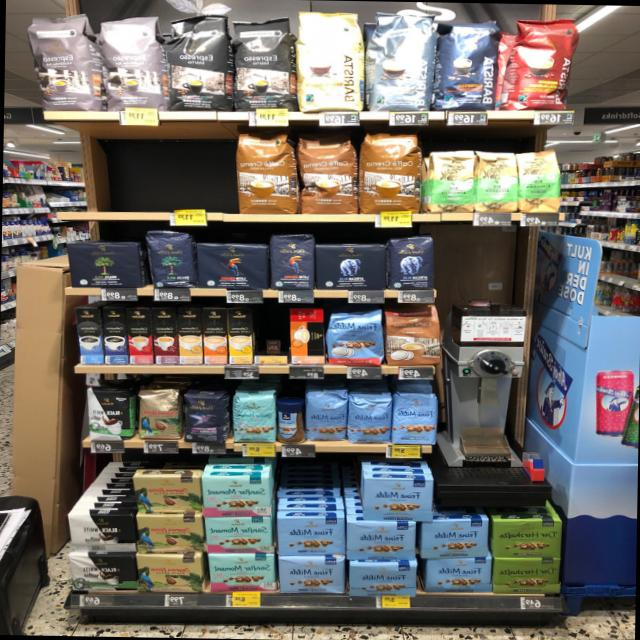AB Bohne: (388, 233, 434, 290)
AB Gemahlen: (315, 242, 387, 290)
Athiopien Bohne: (518, 148, 562, 215)
Athiopien Gemahlen: (426, 150, 475, 215), (473, 150, 519, 212)
BM Bohne: (144, 228, 194, 288)
BM Gemahlen: (66, 238, 143, 288)
BW Bohne: (85, 386, 134, 440)
BW Gemahlen: (65, 511, 136, 553), (68, 552, 136, 592)
Barista CB: (295, 11, 363, 111)
Barista CC: (364, 12, 436, 112)
Barista Espresso: (432, 15, 498, 110)
Barista Kolumbien: (502, 14, 578, 112)
C Fino Bohne: (182, 391, 225, 445)
CC Vollmundig: (384, 304, 440, 366)
CC Vollmundig 36 Pads: (359, 128, 422, 214), (234, 130, 296, 214), (298, 130, 360, 214)
Colombia BB Bohne: (138, 388, 180, 440)
Colombia BB Gemahlen: (132, 472, 202, 514), (135, 553, 203, 595), (134, 514, 202, 554)
Empty Shelf: (55, 125, 234, 215), (254, 308, 288, 357)
Espresso Kraftig: (165, 10, 229, 111), (232, 14, 293, 110)
Espresso M Art: (23, 9, 98, 110), (99, 11, 163, 110)
FM 36 Pads: (326, 306, 382, 366)
FM Bohne: (391, 392, 439, 443), (348, 391, 392, 445), (304, 388, 346, 442)
FM Gemahlen: (362, 476, 433, 521), (418, 516, 488, 560), (346, 520, 415, 562), (276, 516, 344, 556), (348, 560, 418, 598), (424, 554, 490, 592), (278, 556, 344, 594)
FM Instant: (275, 397, 304, 443)
Herzhatfe Mundig: (491, 517, 564, 559), (492, 556, 560, 594)
LG Bohne: (268, 230, 315, 290)
LG Gemahlen: (196, 241, 268, 290)
SM Bohne: (232, 393, 275, 443)
SM Gemahlen: (200, 472, 270, 516), (204, 514, 272, 554), (208, 551, 274, 592)
Simo CCMild bigpack: (226, 306, 252, 363)
Simo CCVollmundig bigpack: (202, 306, 226, 364)
Simo Decaff: (178, 305, 202, 363)
Simo Es Brazil: (124, 308, 154, 363)
Simo Es Caramel: (150, 307, 178, 363)
Simo Es Kraft: (100, 307, 128, 364)
Simo Es Vanilla: (73, 307, 103, 363)
